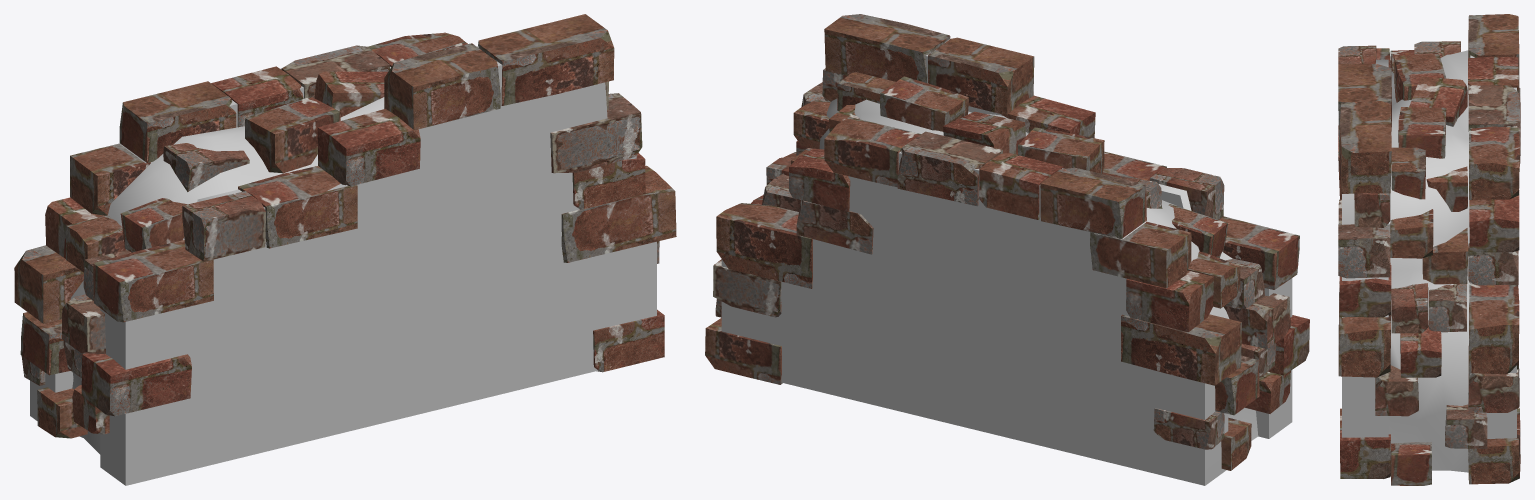
File: SM_Wall_Thick_Ruined_04.fbx
3 renders of one model, left to right at view 1: azimuth 30°, elevation 25°; view 2: azimuth 150°, elevation 25°; view 3: azimuth 270°, elevation 25°, orthographic. The views are drawn at different scales.
Parts seen in each view (by area): view 1: SM_Wall_Thick_Ruined_04_LOD0; view 2: SM_Wall_Thick_Ruined_04_LOD0; view 3: SM_Wall_Thick_Ruined_04_LOD0.
Boxes of the visible parts, left/top/right/bottom form: SM_Wall_Thick_Ruined_04_LOD0: left=14, top=14, right=676, bottom=485; SM_Wall_Thick_Ruined_04_LOD0: left=705, top=14, right=1309, bottom=485; SM_Wall_Thick_Ruined_04_LOD0: left=1338, top=14, right=1520, bottom=485.
Size of what is drawn, in the model's own units: 433 by 243 by 131.
